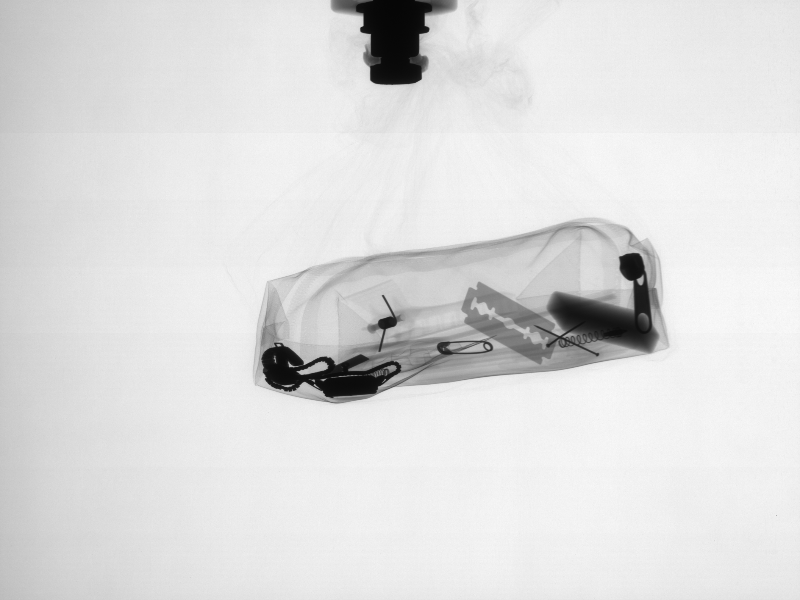bobby pin: (436, 340, 496, 356)
needle: (543, 319, 598, 357)
rasor blade: (467, 282, 540, 361)
rope: (266, 337, 407, 396)
string: (559, 334, 623, 345)
